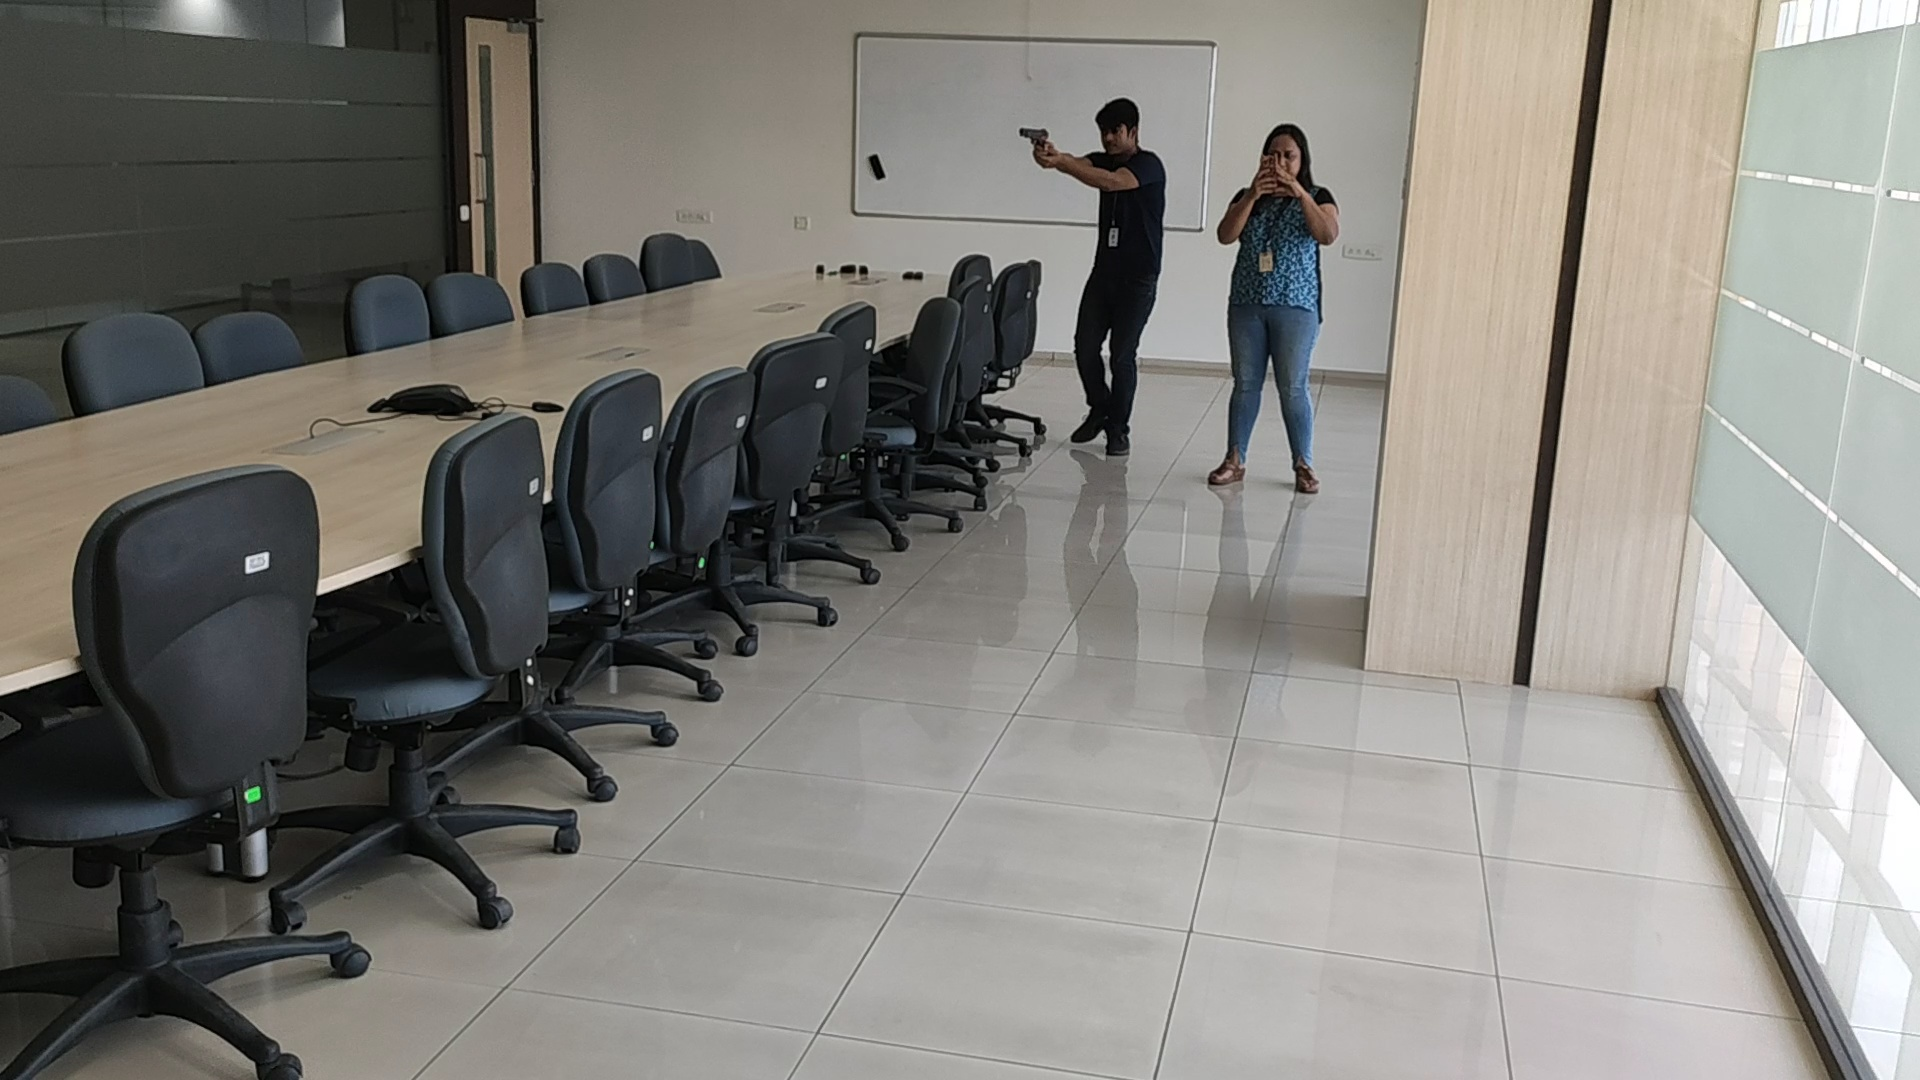gun: (1017, 125, 1050, 152)
